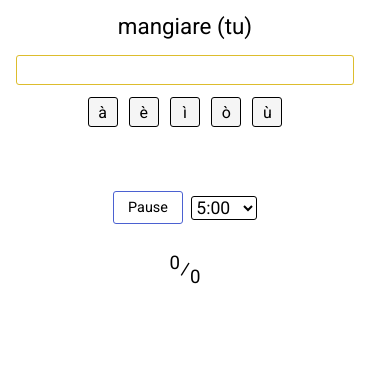
Test: error message displays if the user input does not match the conjugation
Type "parlo" into the field at (185, 70), box [16,55,354,85]
Then press Enter
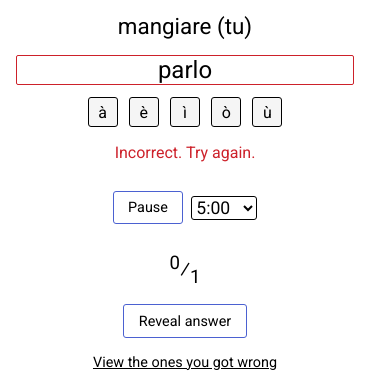
Result: the text "Incorrect. Try again." is shown at [115,143,255,159]
